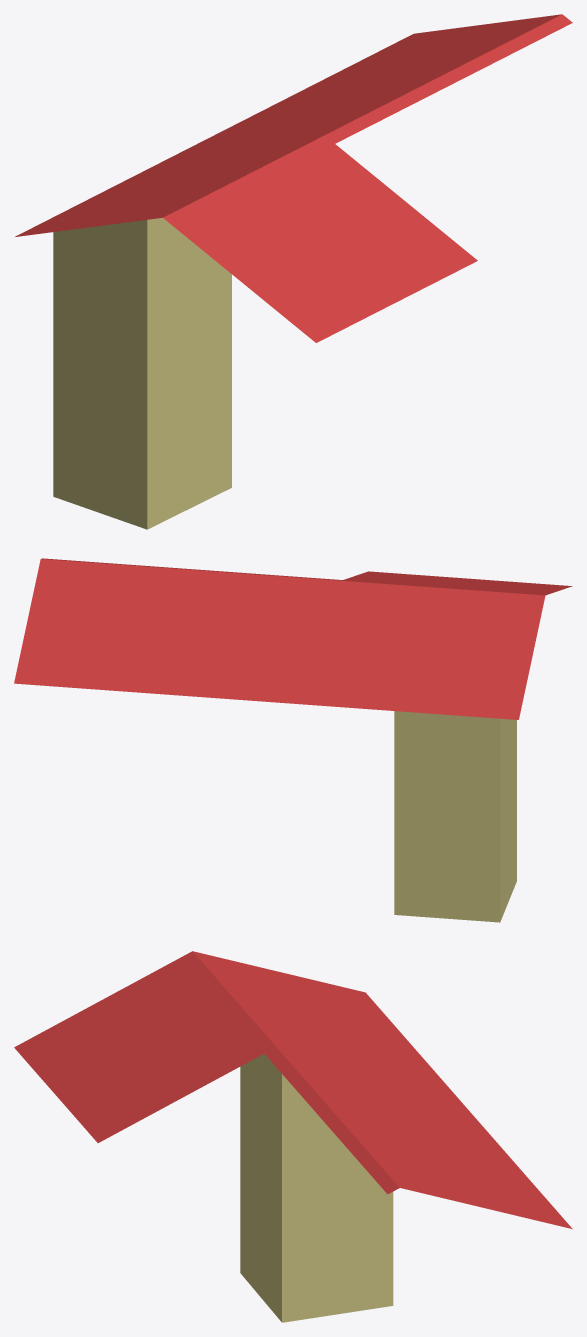
The picture shows the model from 3 angles, top to bottom: view 1: azimuth 30°, elevation 25°; view 2: azimuth 150°, elevation 25°; view 3: azimuth 270°, elevation 25°; orthographic projection. The views are drawn at different scales.
Bounding box in the file's own units: 11.81 × 10.5 × 6.58.
